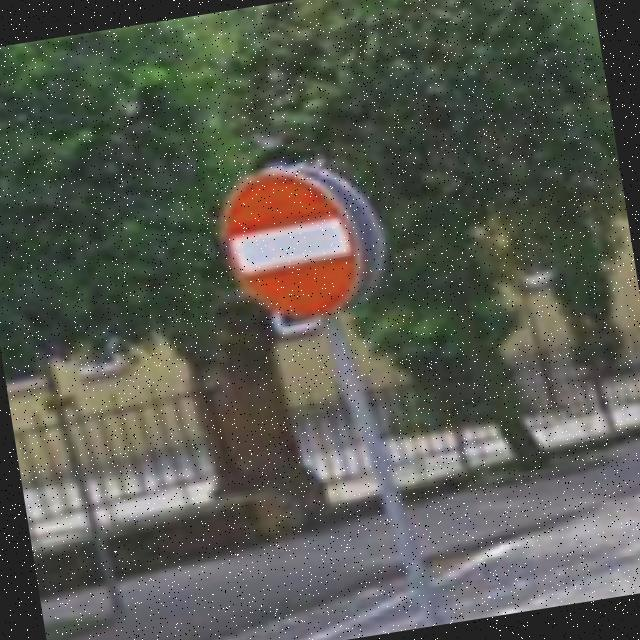Zakaz wjazdu: (208, 157, 368, 336)
